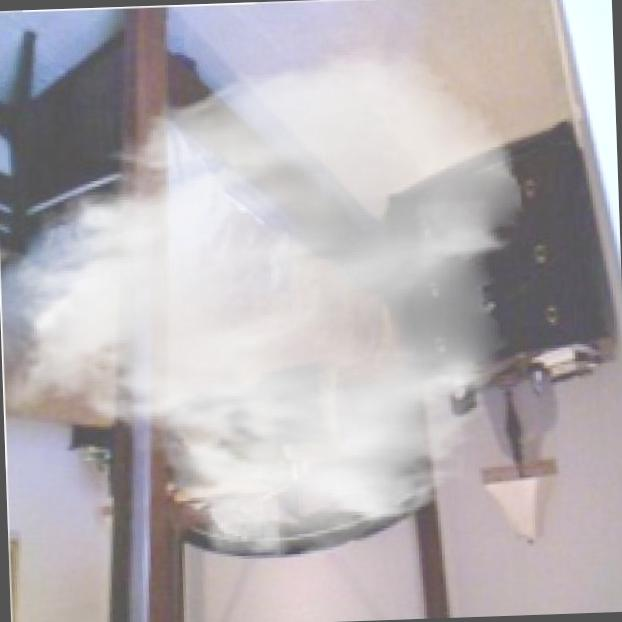smoke: (0, 34, 539, 572)
